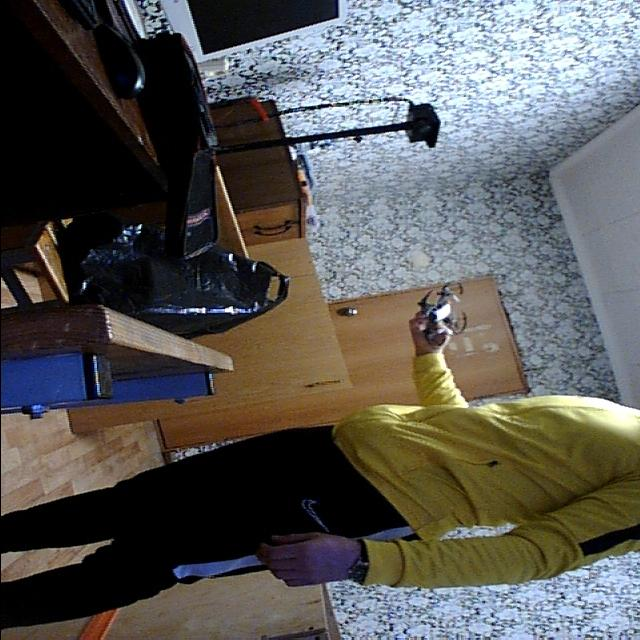drone: (402, 276, 478, 352)
